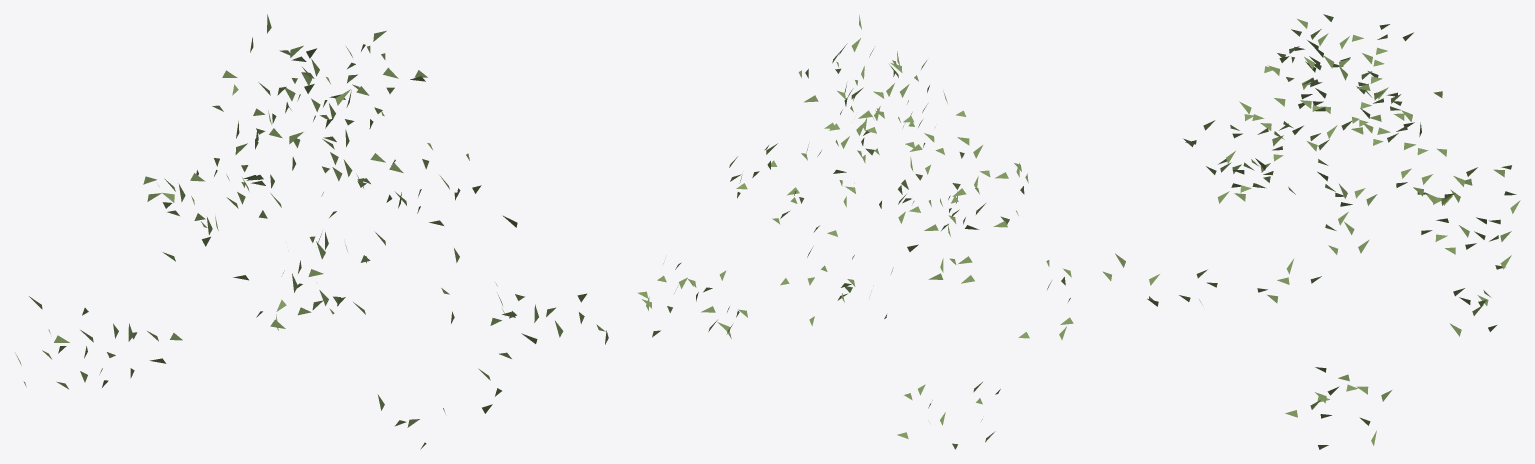
The model's file is teaching3-vegetation-07-far.glb.
3 views of the same model, side by side, from view 1: azimuth 30°, elevation 25°; view 2: azimuth 150°, elevation 25°; view 3: azimuth 270°, elevation 25° (orthographic). The views are drawn at different scales.
Visible parts, largest first — view 1: vegetation cedar leaves.001; view 2: vegetation cedar leaves.001; view 3: vegetation cedar leaves.001.
Part boxes in pixels (x1,y1,x2,y2): vegetation cedar leaves.001: [15, 14, 608, 449]; vegetation cedar leaves.001: [638, 15, 1073, 449]; vegetation cedar leaves.001: [1102, 14, 1520, 449].
Bounding box in the file's own units: 11.9 × 8.67 × 9.79.
